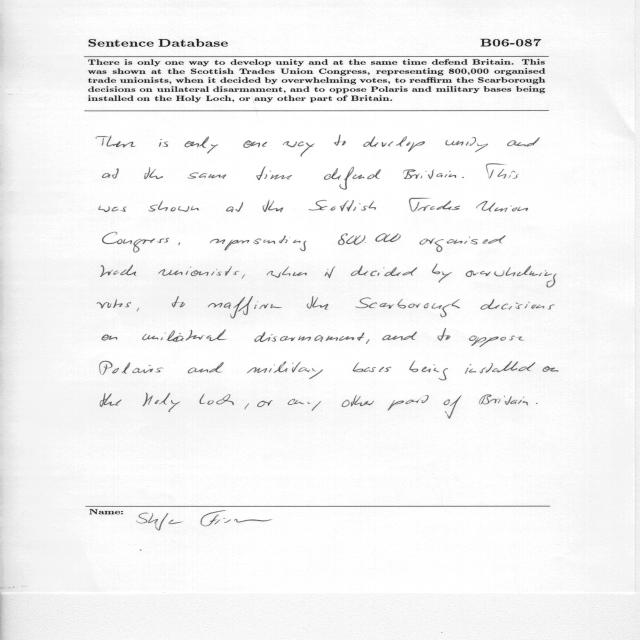word: (356, 298, 460, 318), (466, 266, 557, 288), (208, 297, 282, 319), (420, 235, 506, 252), (210, 236, 306, 251), (103, 232, 169, 253), (247, 361, 323, 379), (324, 167, 381, 190), (255, 332, 365, 342), (142, 329, 226, 342), (363, 136, 425, 152), (465, 361, 535, 374), (100, 361, 164, 375), (481, 299, 555, 310), (158, 266, 239, 276), (338, 233, 401, 245), (409, 361, 448, 380), (309, 200, 376, 211), (351, 266, 417, 277), (142, 393, 180, 412), (409, 198, 460, 212), (388, 395, 429, 411), (469, 335, 523, 347), (446, 137, 489, 152), (148, 200, 199, 212), (184, 137, 218, 154), (476, 201, 528, 212), (479, 395, 528, 406), (403, 170, 456, 180), (283, 141, 315, 157), (256, 166, 292, 180), (96, 136, 136, 148), (486, 164, 517, 179), (267, 267, 307, 278), (188, 362, 224, 374), (444, 395, 462, 419), (288, 398, 321, 411), (101, 265, 136, 277), (341, 395, 374, 407), (199, 394, 234, 405), (432, 264, 452, 283), (353, 362, 391, 372), (97, 299, 131, 309), (507, 137, 540, 147), (382, 332, 417, 341), (100, 393, 122, 407), (307, 296, 328, 310), (188, 172, 227, 179), (263, 200, 284, 212), (144, 167, 163, 179), (244, 140, 268, 148), (437, 328, 451, 341), (102, 169, 119, 179), (226, 202, 243, 212), (99, 206, 126, 212), (172, 297, 185, 308), (334, 135, 346, 146), (325, 267, 335, 279), (257, 400, 272, 407), (543, 366, 559, 372), (102, 335, 117, 341), (159, 139, 168, 147), (245, 403, 249, 410), (366, 339, 370, 344), (242, 274, 245, 279), (179, 243, 181, 246), (137, 308, 139, 311), (462, 177, 464, 178), (536, 403, 537, 404)
